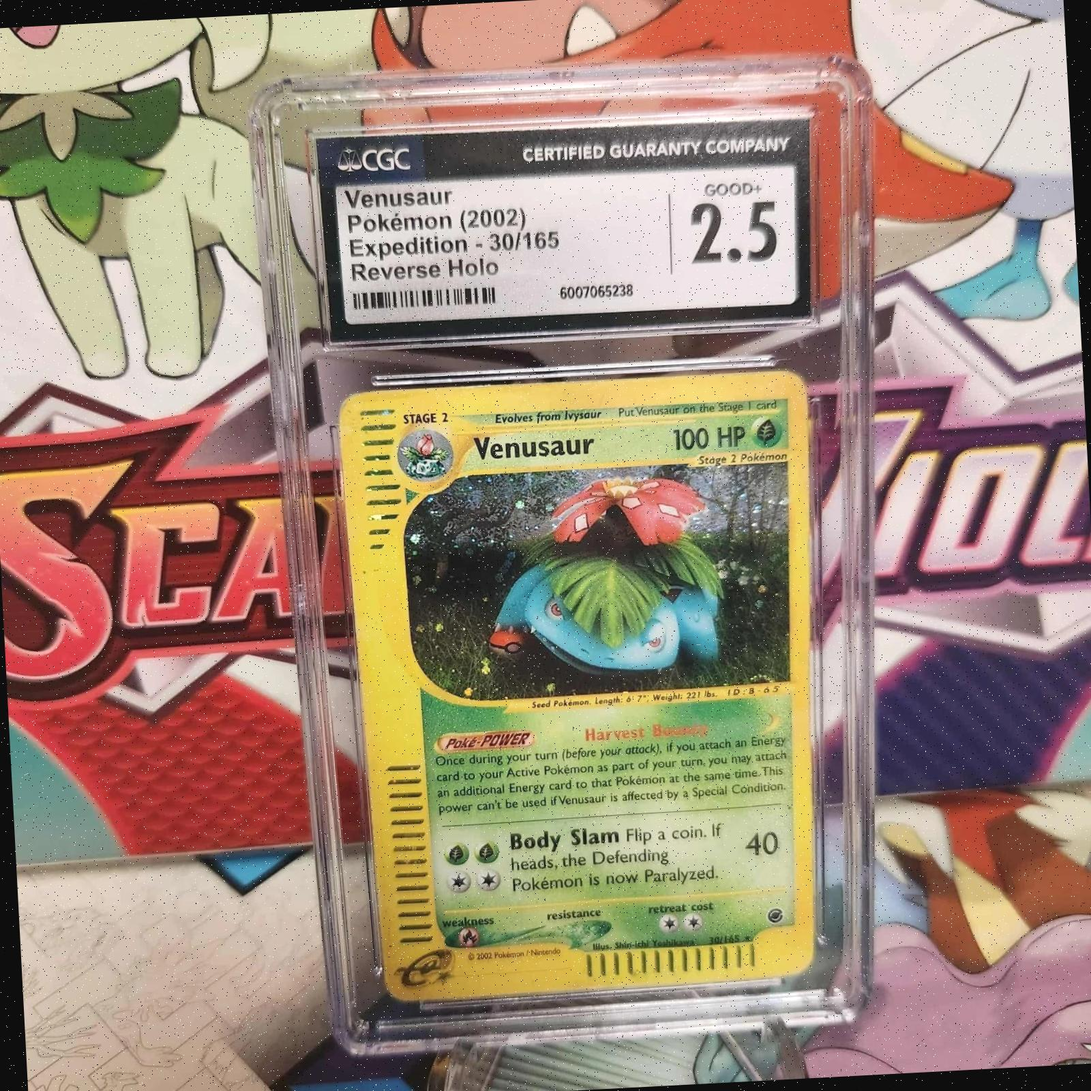card-2UtV: (338, 369, 814, 1001)
